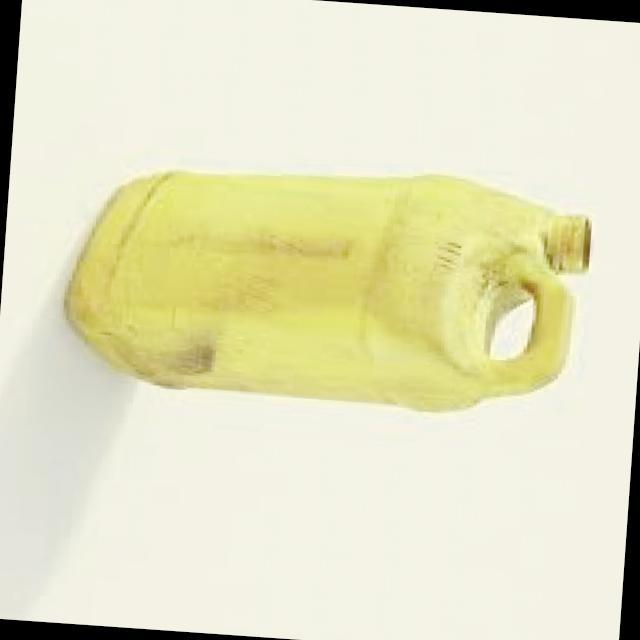HDPE Plastic: (60, 166, 596, 418)
